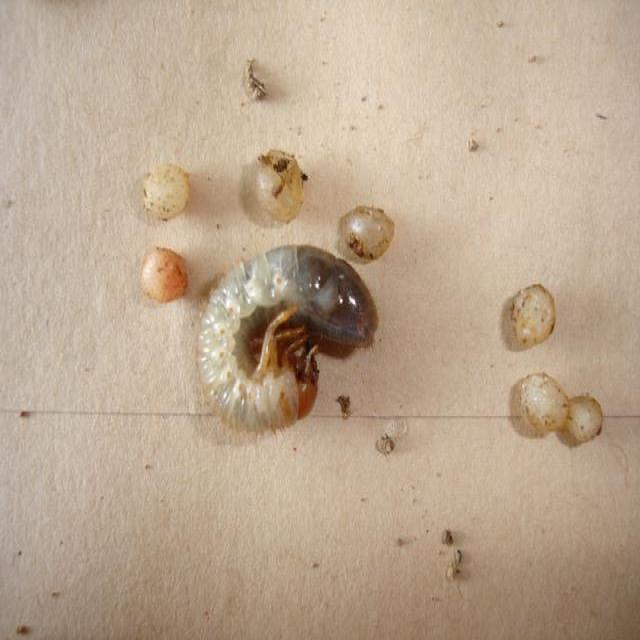Grub-Adult-: (167, 232, 402, 456)
